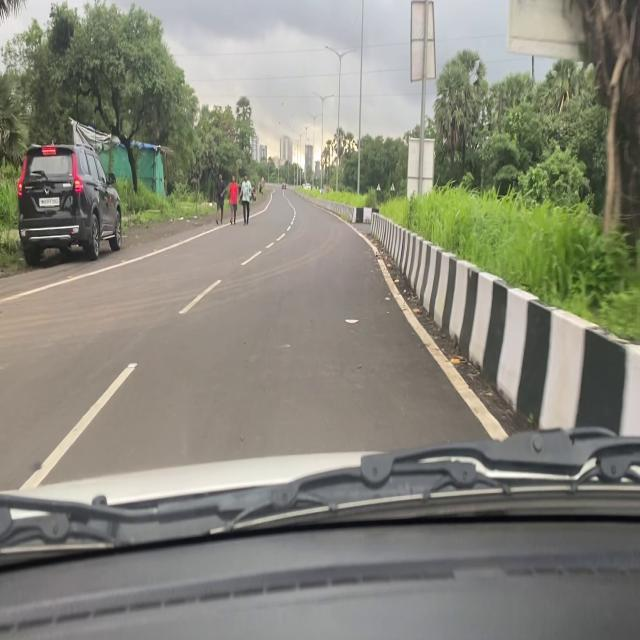lane: (19, 221, 287, 499), (343, 215, 509, 441), (1, 204, 261, 309)
